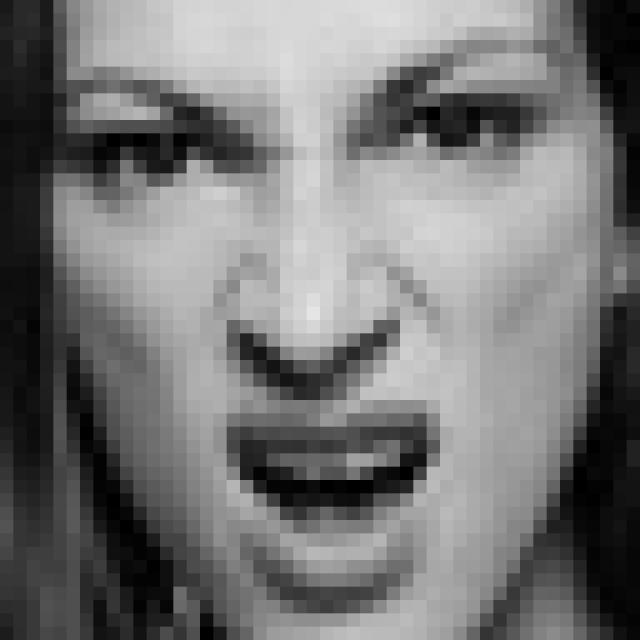disgust: (53, 36, 558, 608)
